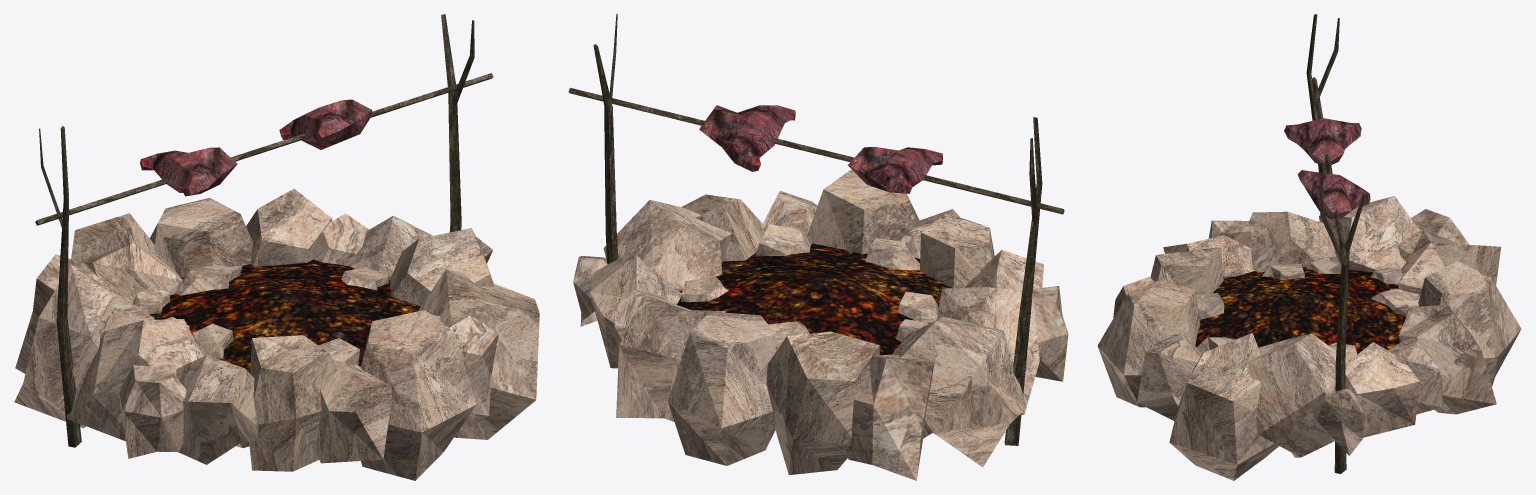
File: thm_dant_fire_pit_l1.fbx
3 renders of one model, left to right at view 1: azimuth 30°, elevation 25°; view 2: azimuth 150°, elevation 25°; view 3: azimuth 270°, elevation 25°, orthographic. The views are drawn at different scales.
Visible parts, largest first — view 1: mesh_node; view 2: mesh_node; view 3: mesh_node.
Part boxes in pixels (x1,y1,x2,y2): mesh_node: (14,14,539,480); mesh_node: (568,14,1068,480); mesh_node: (1097,14,1521,480).
Size of the model in its own units: 3.47 by 2.52 by 3.11.
4 materials, 4 textured.
